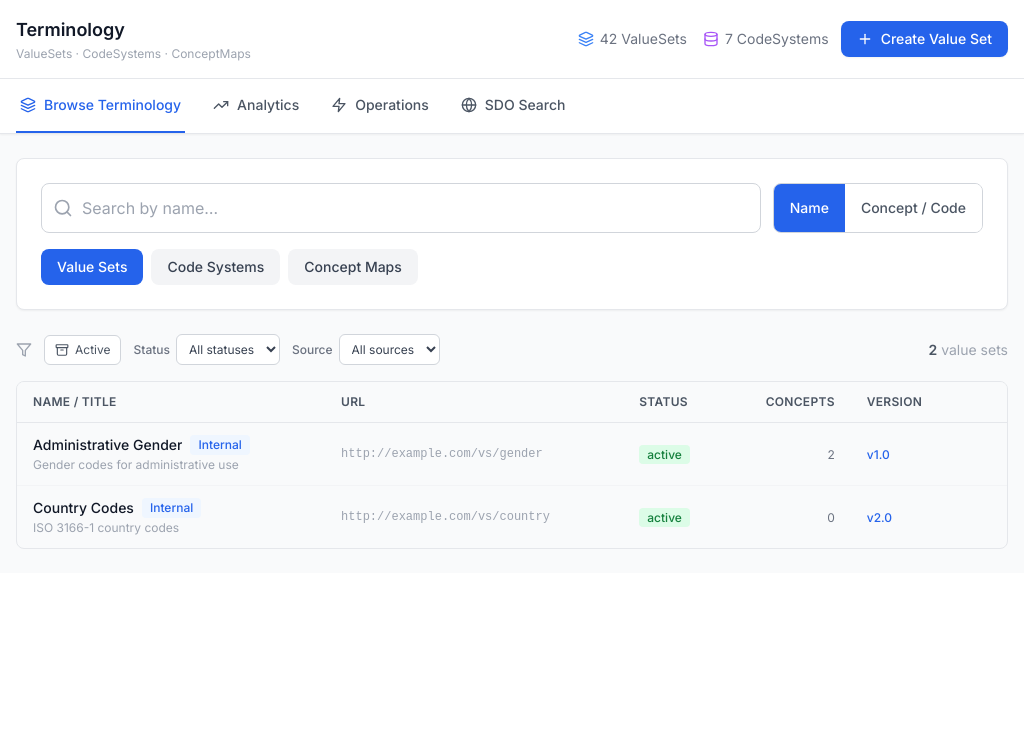
Test case: TerminologyApp › opens detail panel when a resource card is clicked
The width and height of the screenshot is (1024, 749).
What coordinates should you click on to do the following:
click the text "Administrative Gender"
I would click on:
 (108, 445)
Its box is [33, 435, 182, 455].
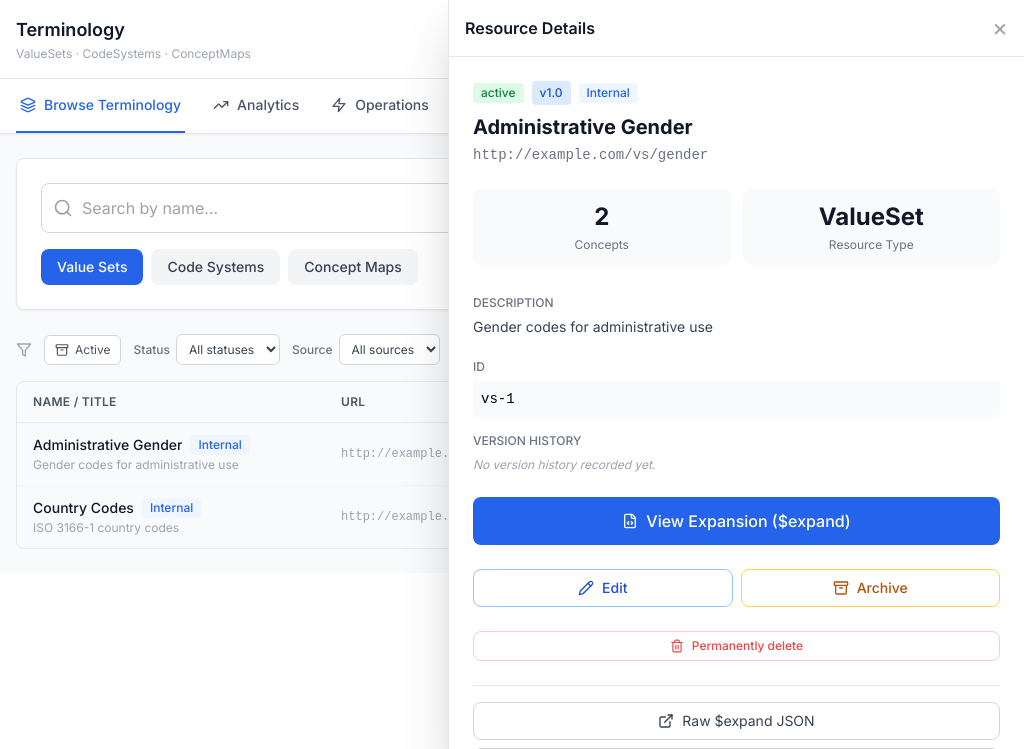
Result: the heading "Resource Details" is shown at [465, 16, 595, 40]
